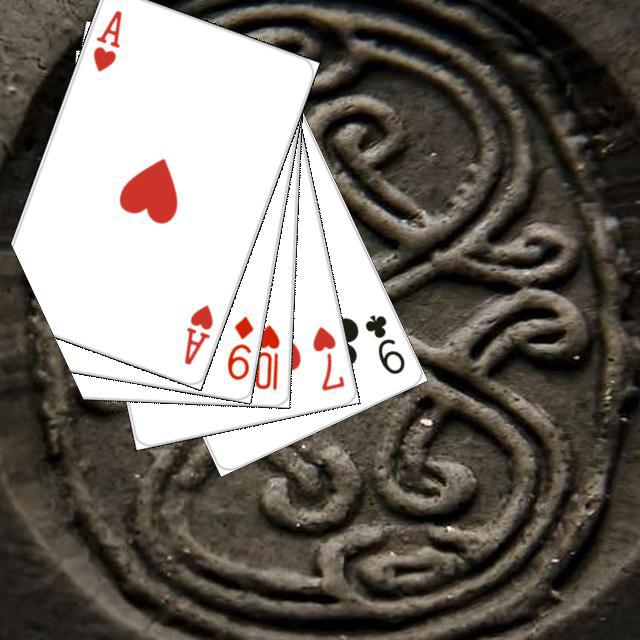10h: (250, 319, 282, 392)
7h: (307, 321, 346, 393)
9c: (360, 309, 407, 376)
9d: (222, 311, 255, 382)
Ah: (87, 5, 124, 74), (179, 299, 215, 367)
